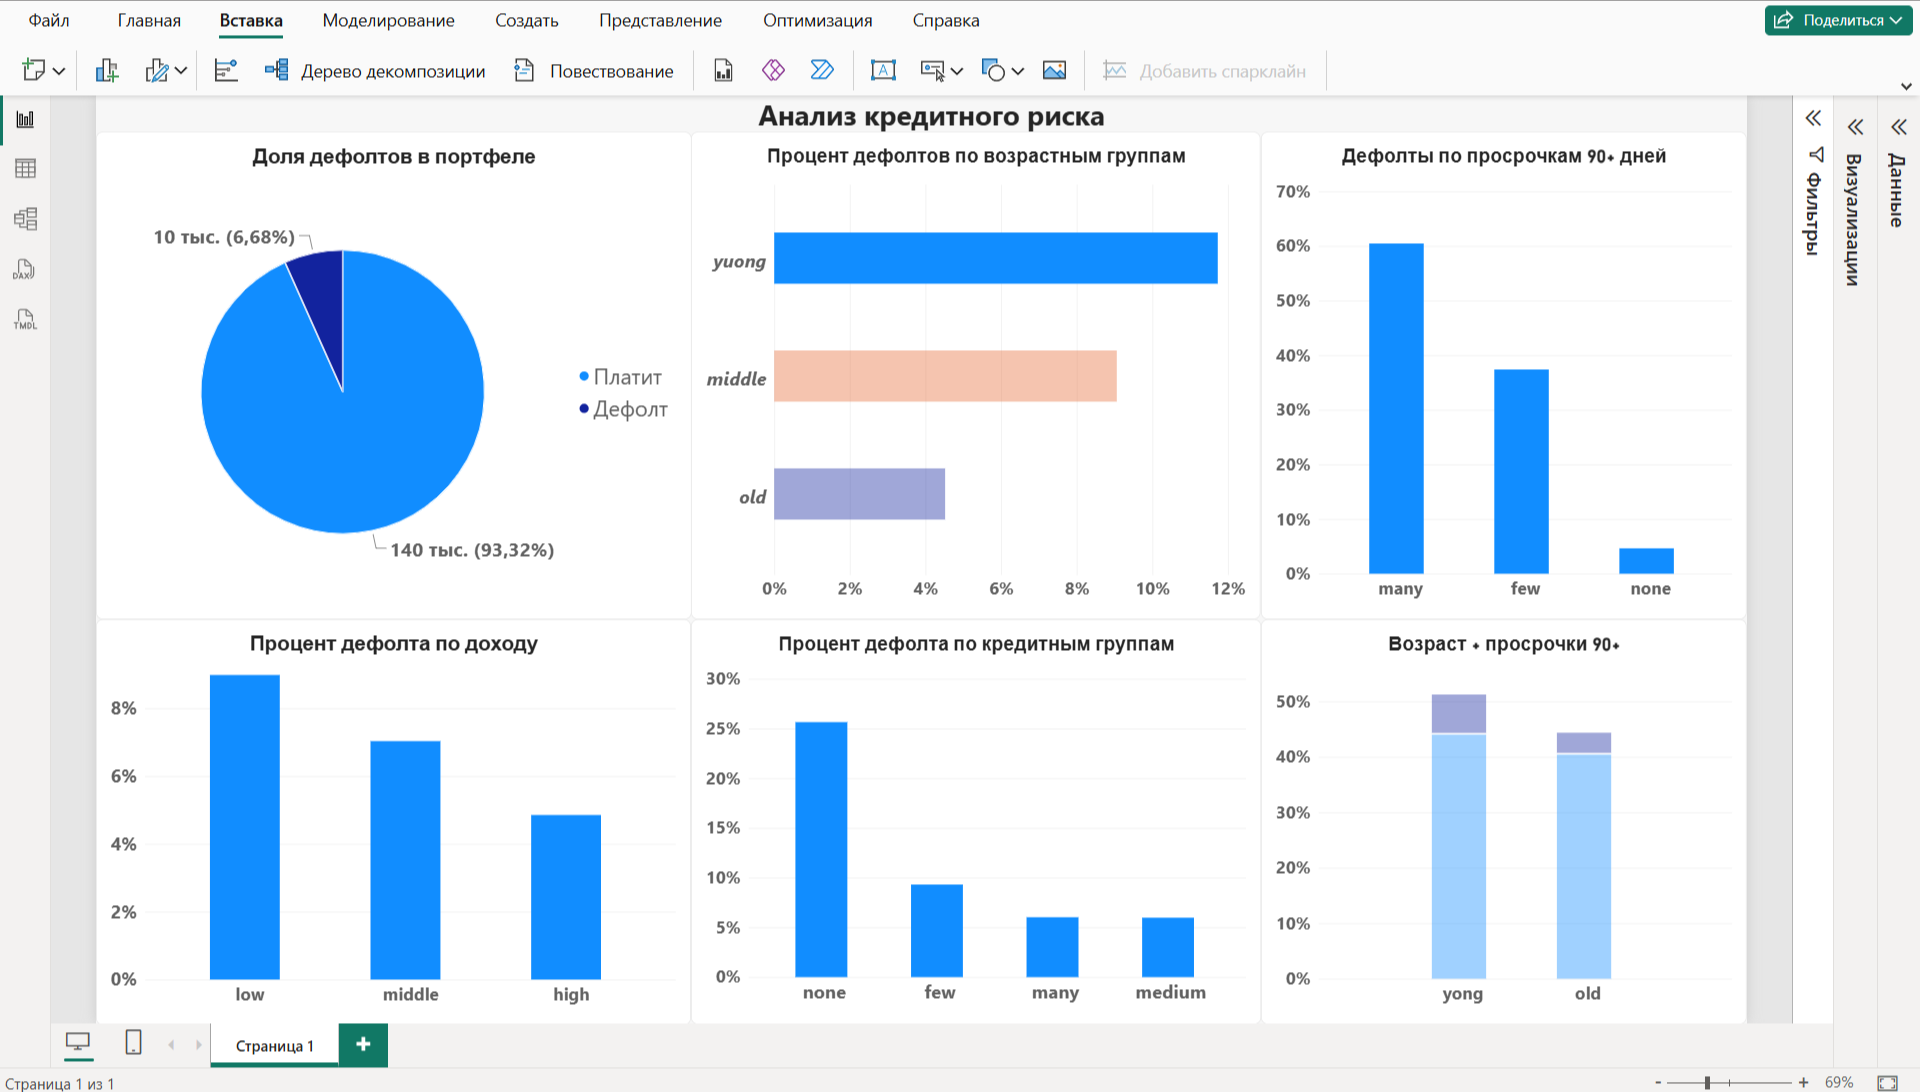

This screenshot's page, from the dashboard's own definition file:
{"tool":"powerbi","page":{"name":"Страница 1","canvas":[1920,1080],"ordinal":0},"visuals":[{"type":"pieChart","title":"Доля дефолтов в портфеле","fields":{"Category":["02_defaults.Статус","02_defaults.default_percent"],"Series":["02_defaults.Статус"],"Y":["Sum(02_defaults.default_count)"]},"box":[0,41.9,692.4,566.9],"z":0},{"type":"barChart","title":"Процент дефолтов по возрастным группам","fields":{"Category":["06_defaults_by_age.age_group"],"Series":["06_defaults_by_age.defaults"],"Y":["Sum(06_defaults_by_age.default_precent)"]},"box":[692.4,41.9,662.8,566.9],"z":1000},{"type":"clusteredColumnChart","title":"Процент дефолта по доходу","fields":{"Category":["07_defaults_by_income.income_group"],"Y":["Sum(07_defaults_by_income.default_present)"]},"box":[0,608.8,691.6,471.9],"z":2000},{"type":"columnChart","title":"Процент дефолта по кредитным группам","fields":{"Category":["08_defaults_by_credits.credit_group"],"Y":["Sum(08_defaults_by_credits.default_precent)"]},"box":[692,609,663,471],"z":3000},{"type":"columnChart","title":"Дефолты по просрочкам 90+ дней","fields":{"Category":["09_defaults_by_late90.late_group"],"Y":["Sum(09_defaults_by_late90.default_precent)"]},"box":[1355.2,41.9,565.1,566.9],"z":4000},{"type":"columnChart","title":"Возраст + просрочки 90+","fields":{"Category":["12_combined_analysis.age_group"],"Series":["12_combined_analysis.late_group"],"Y":["Sum(12_combined_analysis.default_precent)"]},"box":[1355,609,565,471],"z":5000},{"type":"textbox","box":[554.7,0,800.6,336.6],"z":5001}]}

Visuals, with their boxes on the page's 1920x1080 design canvas (x1, y1, x2, y2). These are canvas units, not pixel positions in the 1920x1092 screenshot, which may show the page scaled, cropped or inside an application window:
"Доля дефолтов в портфеле" pieChart: bbox=(0, 42, 692, 609)
"Процент дефолтов по возрастным группам" barChart: bbox=(692, 42, 1355, 609)
"Процент дефолта по доходу" clusteredColumnChart: bbox=(0, 609, 692, 1081)
"Процент дефолта по кредитным группам" columnChart: bbox=(692, 609, 1355, 1080)
"Дефолты по просрочкам 90+ дней" columnChart: bbox=(1355, 42, 1920, 609)
"Возраст + просрочки 90+" columnChart: bbox=(1355, 609, 1920, 1080)
textbox: bbox=(555, 0, 1355, 337)
